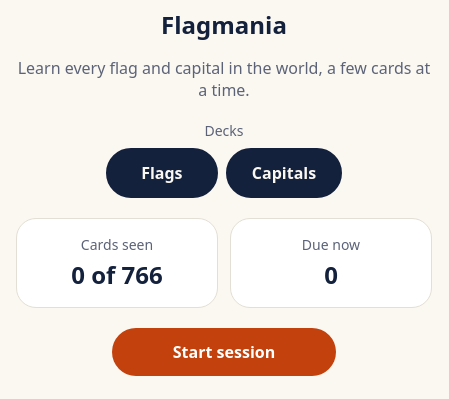
Test: keyboard › ignores a held key and browser shortcuts
The image size is (449, 399).
Later steps or results of the test are not shown.
Click the button "Start session": (224, 352) [112,328,336,376]
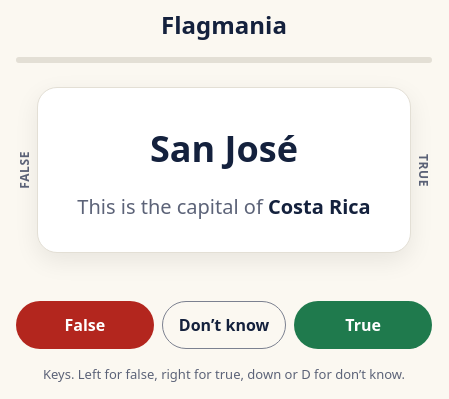
Expected: the button "True" is shown, [294,301,432,349]
